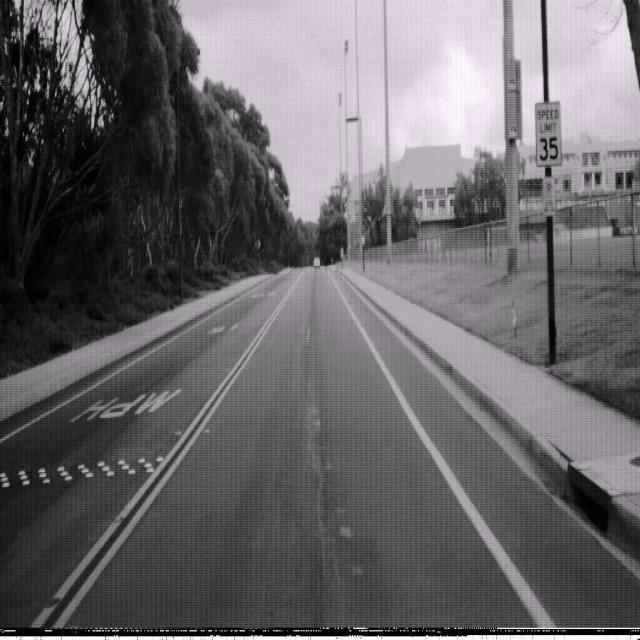speedLimit35: (534, 98, 562, 168)
